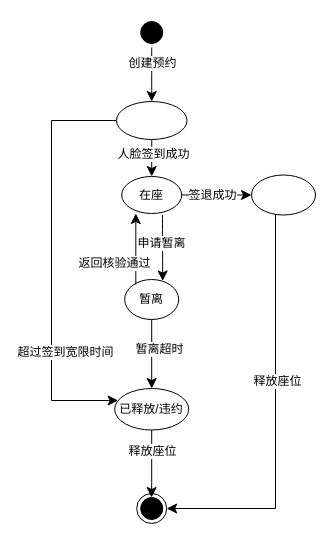
The diagram is 333 pixels wide and 541 high, and some of its shapes have lost their labels. Each missing label, with the centre of its shape:
"已完成" goes at (x=283, y=194).
"待签到" goes at (x=151, y=120).
